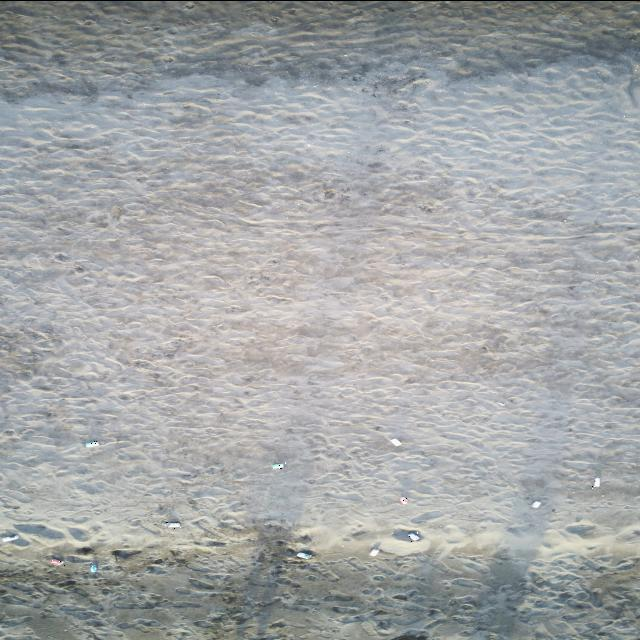Garbage: (392, 528, 420, 540), (112, 548, 140, 560), (0, 533, 18, 542), (296, 551, 312, 559), (164, 520, 180, 527), (76, 546, 92, 553), (369, 544, 379, 555), (89, 560, 98, 572), (84, 440, 99, 447), (407, 532, 420, 540), (49, 557, 63, 564), (391, 437, 400, 446), (592, 476, 599, 487), (400, 495, 407, 504), (272, 463, 284, 468), (532, 500, 539, 507), (496, 402, 504, 404)
